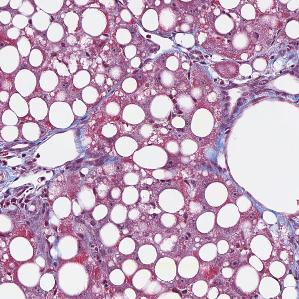fibrosis: (9, 155, 78, 222)
